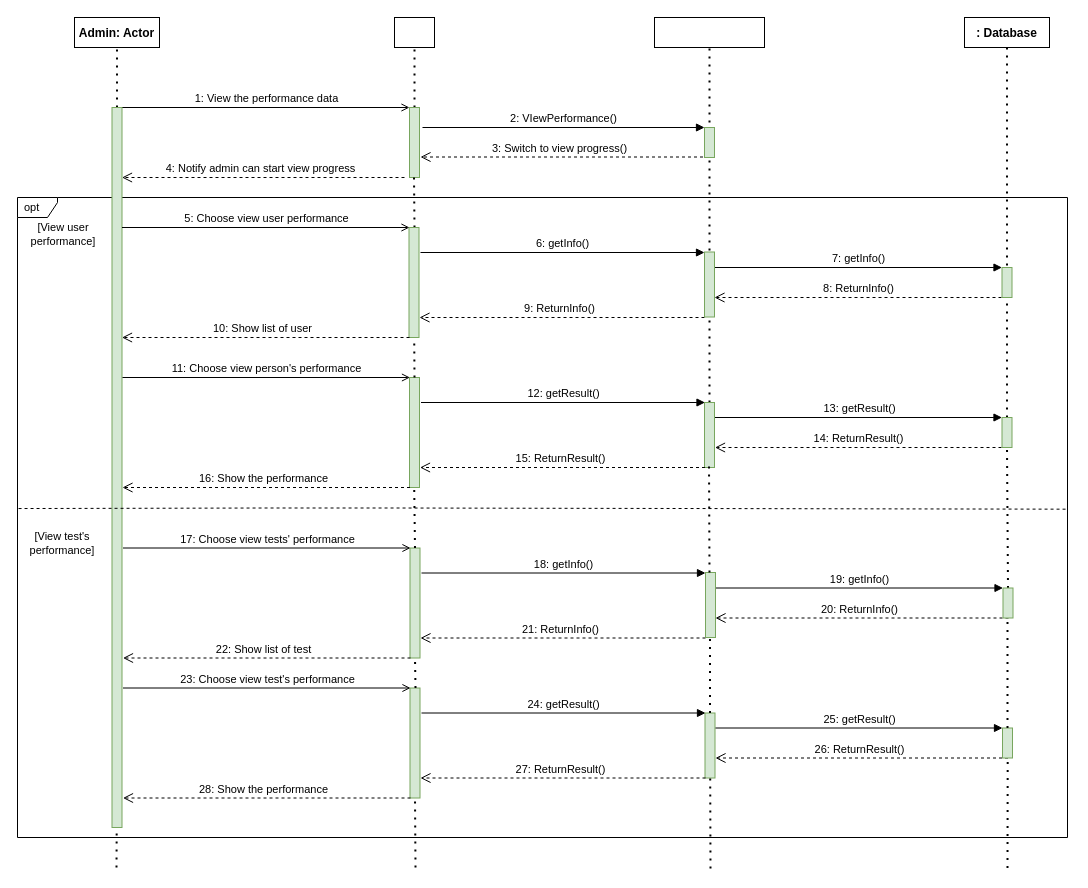
Some shapes in this 1088 by 888 pixel diagram are drawn without their labels. Here are the shapes that lost their labels. From the top down, the centre of each, then its label:
At pixel 414 32: ": UI".
At pixel 709 32: ": System".
